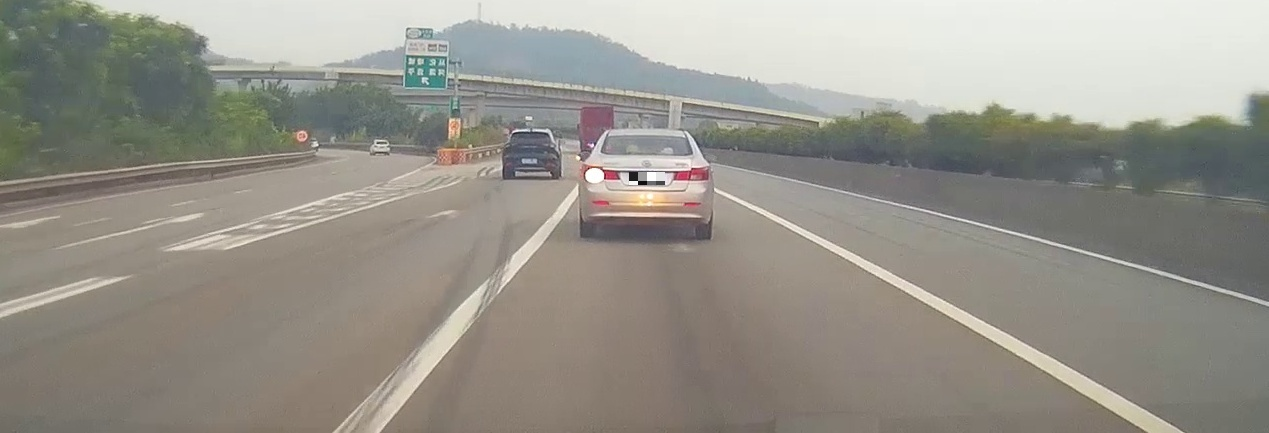L_light: (585, 166, 621, 184), (504, 143, 516, 148)
R_light: (674, 166, 708, 180), (542, 142, 555, 148)
T_light: (640, 132, 655, 137), (528, 131, 536, 133)
day-no: (582, 129, 710, 239), (502, 129, 560, 179)
plate_1: (629, 172, 665, 185)
